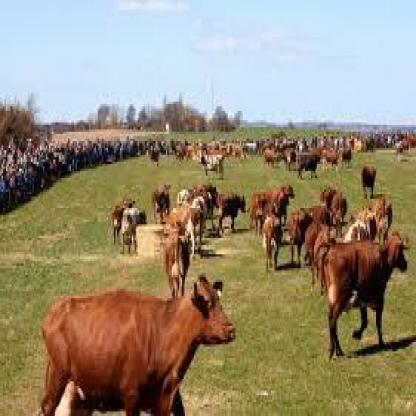cow: (38, 275, 237, 416), (312, 229, 410, 360), (252, 183, 296, 238), (163, 204, 201, 258), (164, 230, 190, 299), (216, 193, 247, 237), (261, 212, 282, 270), (121, 207, 145, 253), (151, 182, 172, 226), (113, 198, 133, 242), (297, 149, 322, 181), (193, 194, 208, 245), (360, 164, 378, 201), (331, 191, 349, 225), (176, 188, 191, 207), (341, 146, 352, 168)
